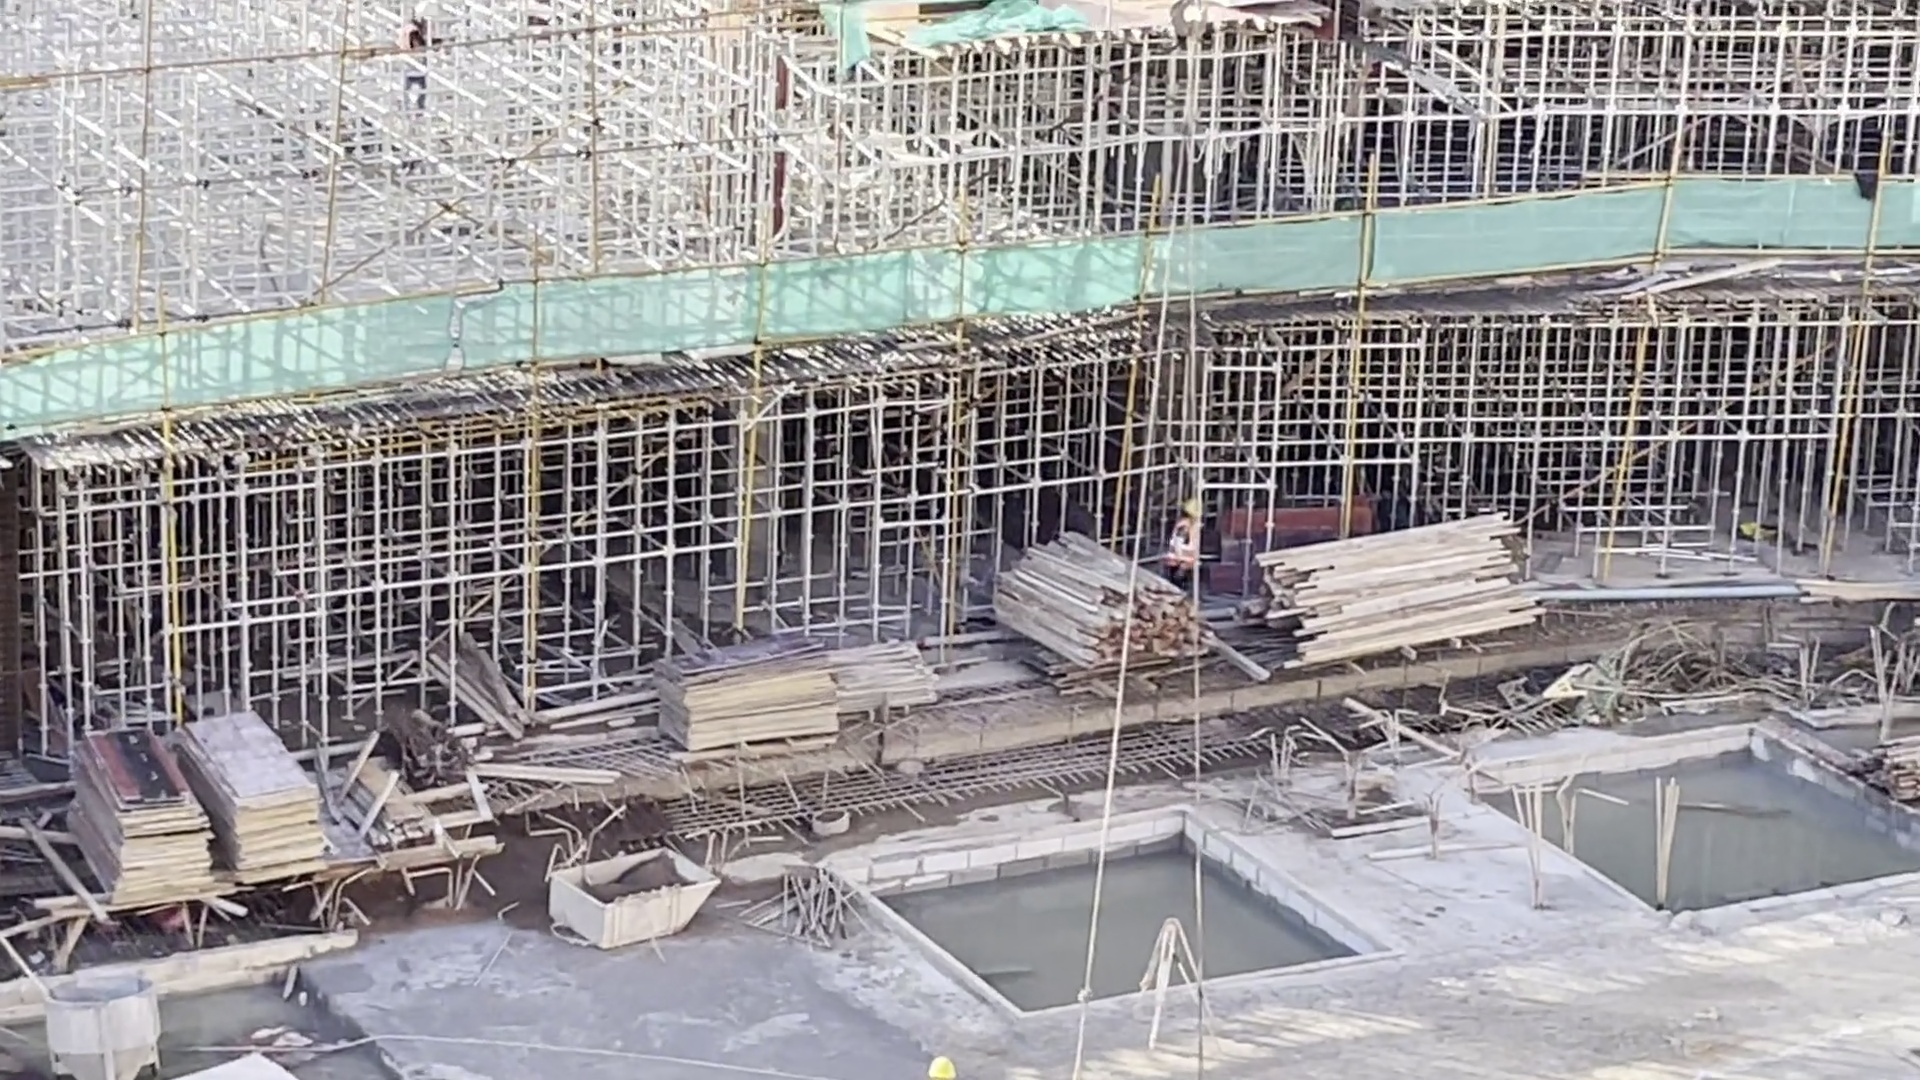board: (66, 728, 221, 917), (188, 709, 333, 889), (648, 628, 847, 758)
helmet: (923, 1049, 956, 1080), (1182, 500, 1198, 516)
hopper: (537, 838, 722, 954), (36, 967, 161, 1080)
person: (1163, 498, 1196, 584)
vest: (1164, 522, 1196, 569)
wood: (1258, 508, 1551, 657), (980, 524, 1171, 678)
